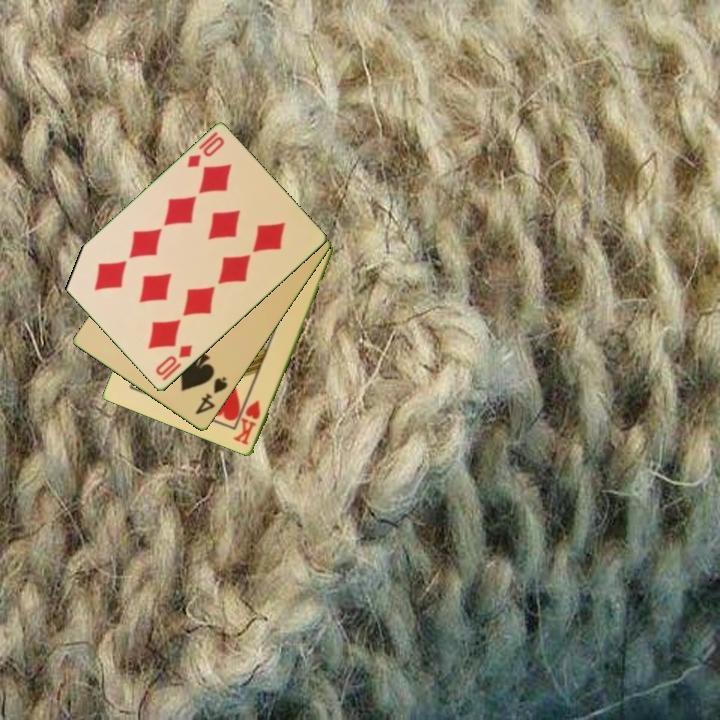10d: (183, 128, 227, 171), (152, 342, 195, 379)
4s: (192, 373, 231, 418)
Kh: (230, 397, 264, 448)
